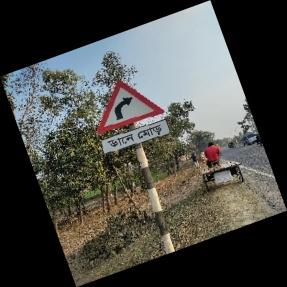Right-turn: (96, 80, 170, 155)
